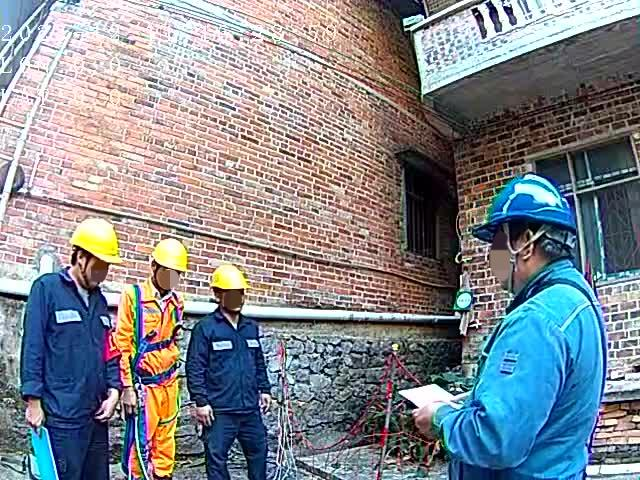halt: (487, 177, 581, 282), (70, 219, 123, 289), (150, 241, 192, 293), (211, 267, 254, 316)
inear: (76, 252, 94, 278)
outear: (506, 226, 545, 269)
